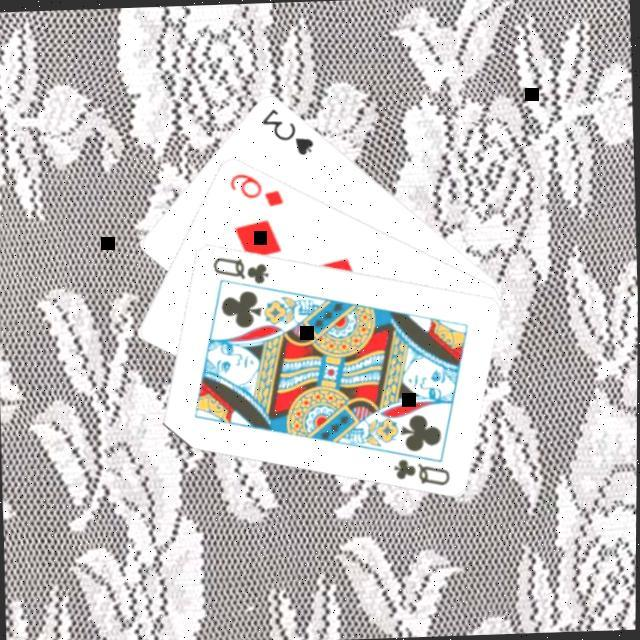3S: (256, 101, 316, 158)
6D: (224, 166, 286, 208)
QC: (208, 249, 271, 286), (390, 452, 453, 488)
